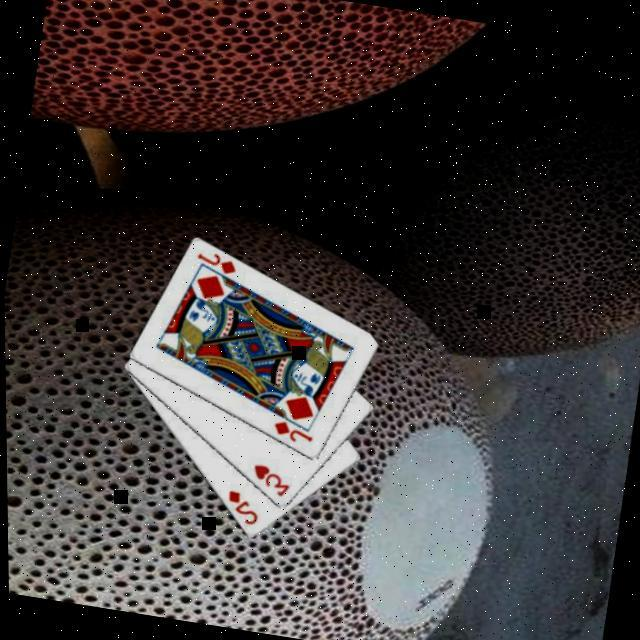2D: (222, 488, 264, 530)
3H: (247, 462, 296, 502)
JD: (192, 248, 242, 282), (270, 418, 318, 449)
